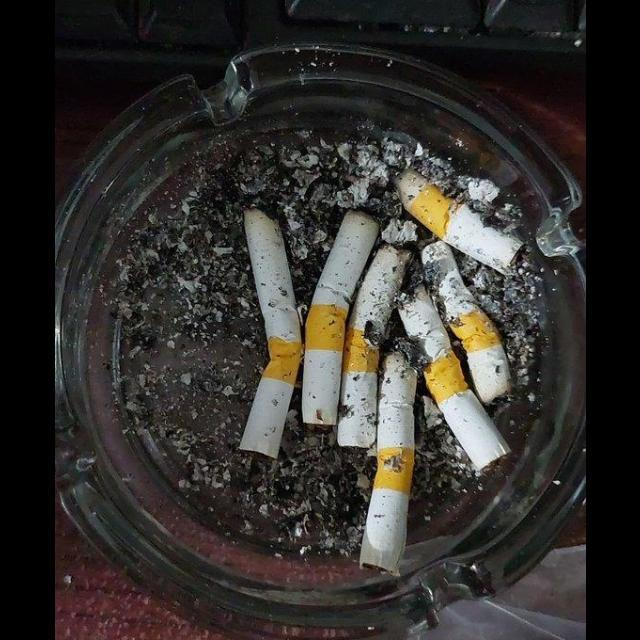rokok: (388, 280, 509, 472), (227, 188, 301, 462), (414, 234, 518, 412), (304, 209, 376, 429), (387, 163, 525, 275), (340, 228, 408, 454), (358, 341, 420, 577)
